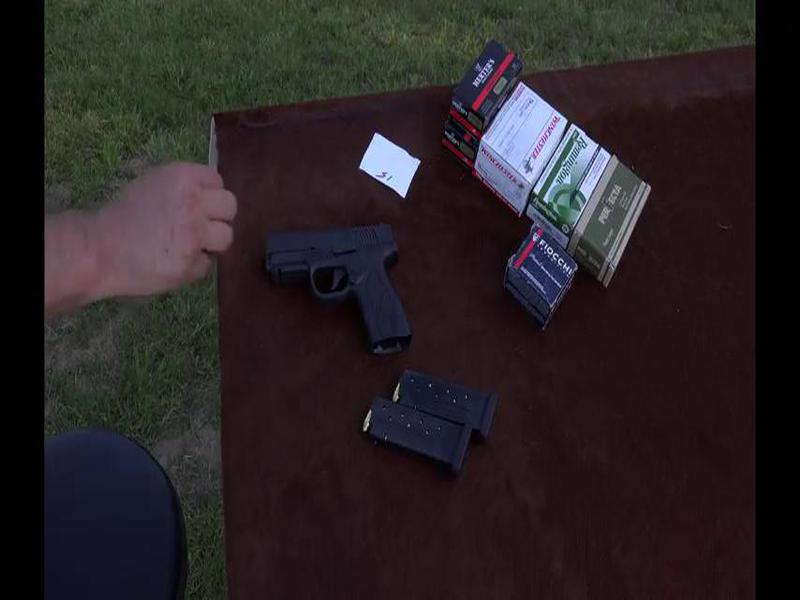Pistola: (243, 224, 423, 346)
